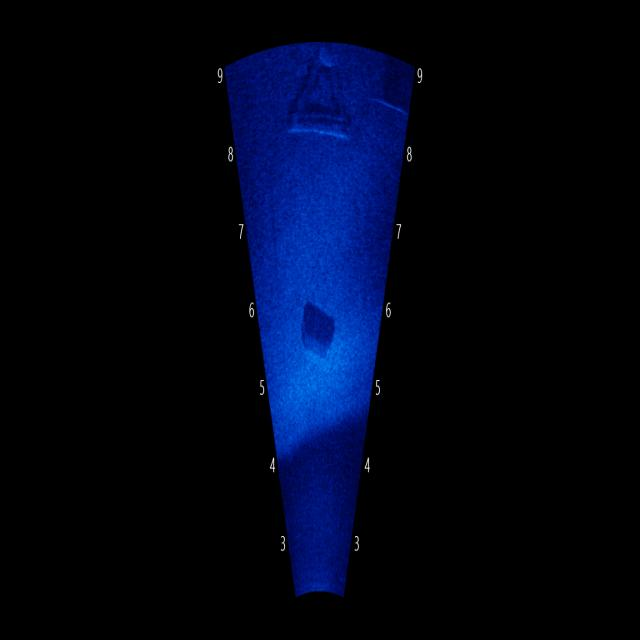square: (286, 290, 335, 375), (376, 54, 418, 112)
triangle: (284, 23, 356, 153)
